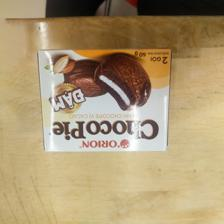Chocopie_cacao: (35, 47, 171, 155)
